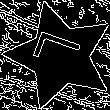L_E: (30, 33, 90, 79)
